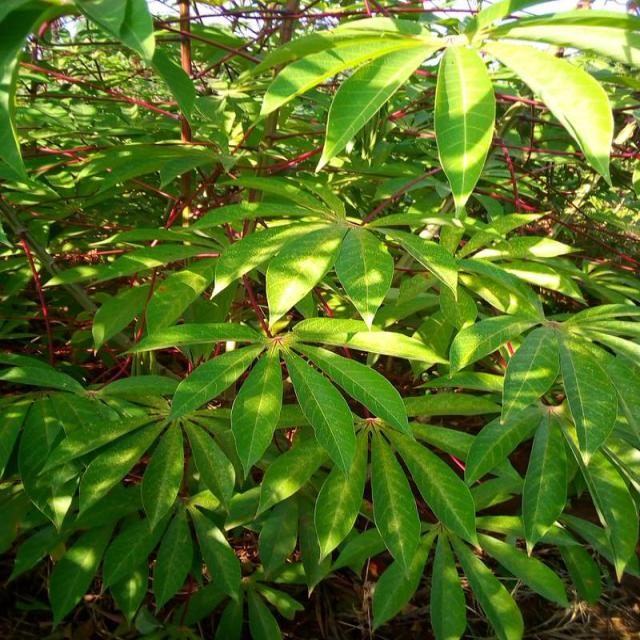cassava leaf: (0, 1, 638, 637), (433, 42, 496, 216)
